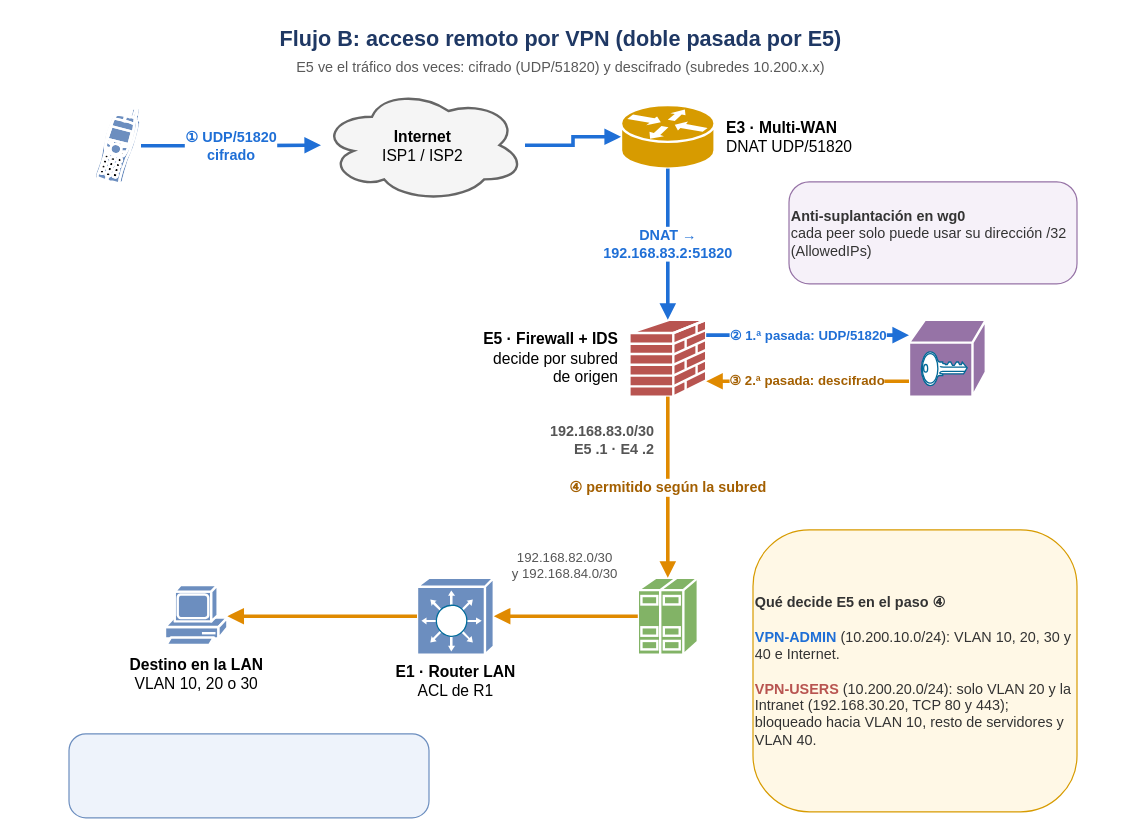
Image size: 1121x839. Some labels were removed from this diagram. The centre of each missing label's shape, as x and y in pixels:
Cliente remoto app WireGuard: (116,145)
Clientes admin1 (10.200.10.10) user1 (10.200.20.10): (248,775)
E2 · Squid solo enruta: (667,615)
E4 · Servidor WireGuard handshake, descifra y reenvía: (946,357)
